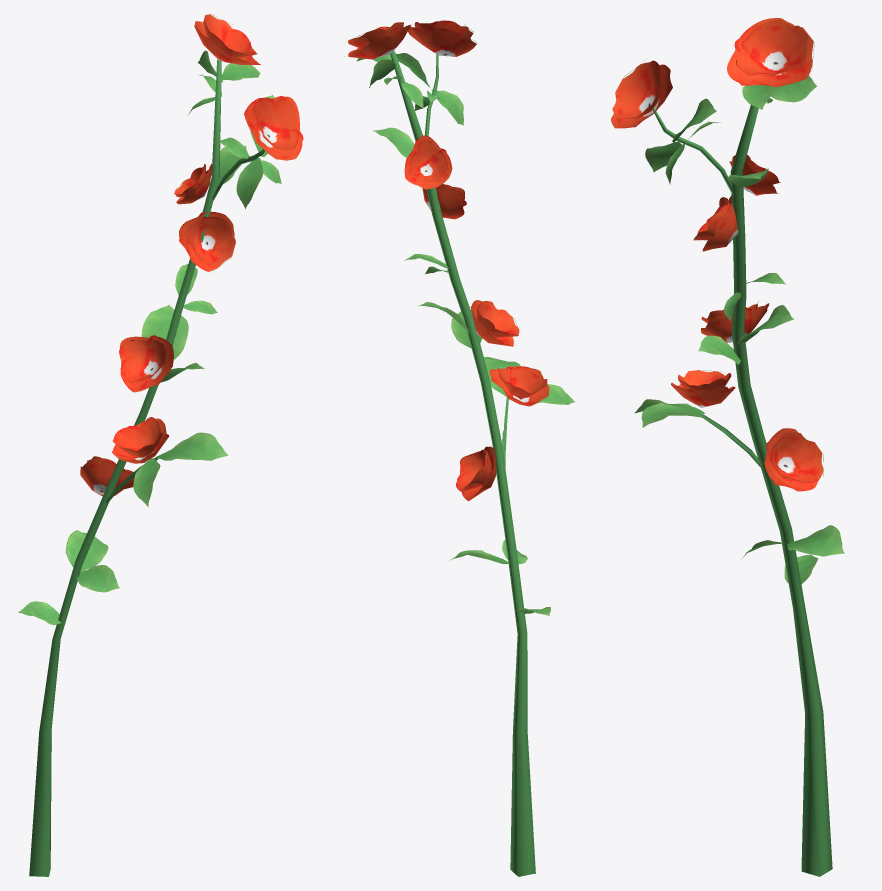
Rendered from SM_flower_tall_02.fbx.
3 views of the same model, side by side, from view 1: azimuth 30°, elevation 25°; view 2: azimuth 150°, elevation 25°; view 3: azimuth 270°, elevation 25° (orthographic). The views are drawn at different scales.
Visible parts, largest first — view 1: Line021; view 2: Line021; view 3: Line021.
Boxes of the visible parts, x1,y1,x2,y2 form: Line021: [18, 14, 303, 876]; Line021: [348, 20, 574, 876]; Line021: [611, 18, 844, 876].
Bounding box in the file's own units: 20.66 × 68 × 17.07.
